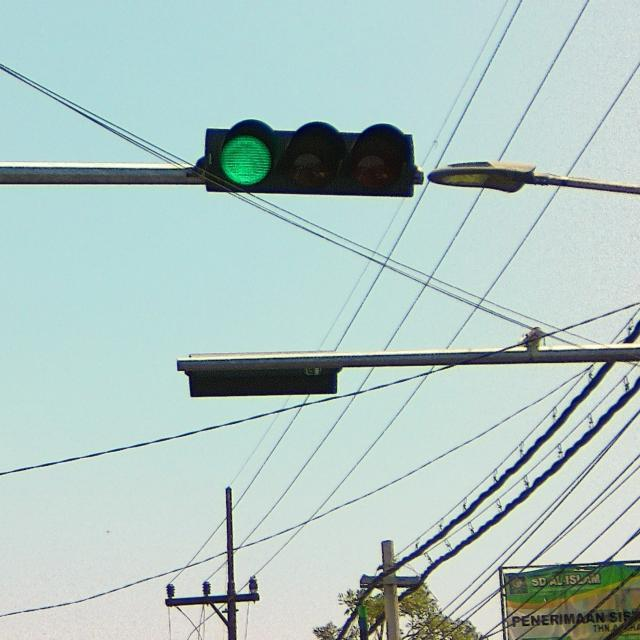green light: (203, 121, 416, 203)
